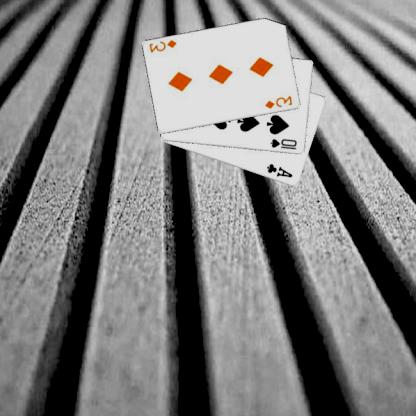10S: (270, 136, 300, 151)
3D: (264, 93, 296, 110), (148, 37, 180, 54)
AC: (266, 161, 296, 179)
